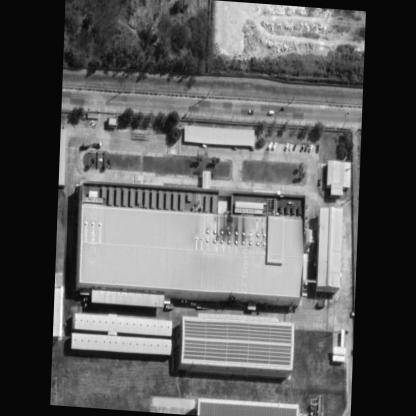solar-pv-panel: (183, 319, 292, 365), (200, 402, 296, 416)
